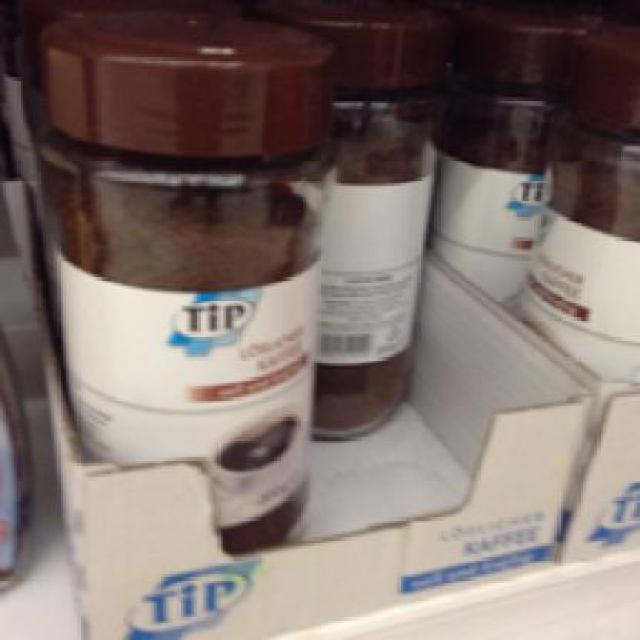Coffee: (35, 11, 312, 548), (297, 6, 440, 440)
